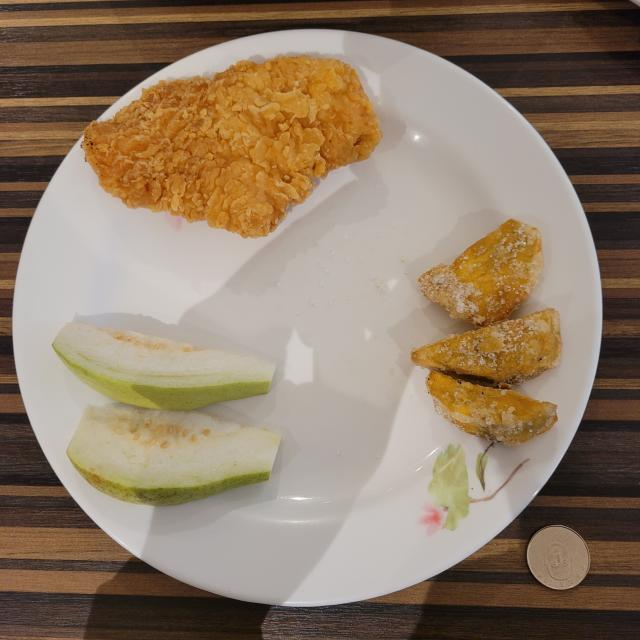coin: (528, 525, 590, 590)
fried chicken cutlet: (82, 56, 381, 238)
fried potato: (411, 219, 561, 445)
guava -sliced-: (52, 322, 281, 505)
